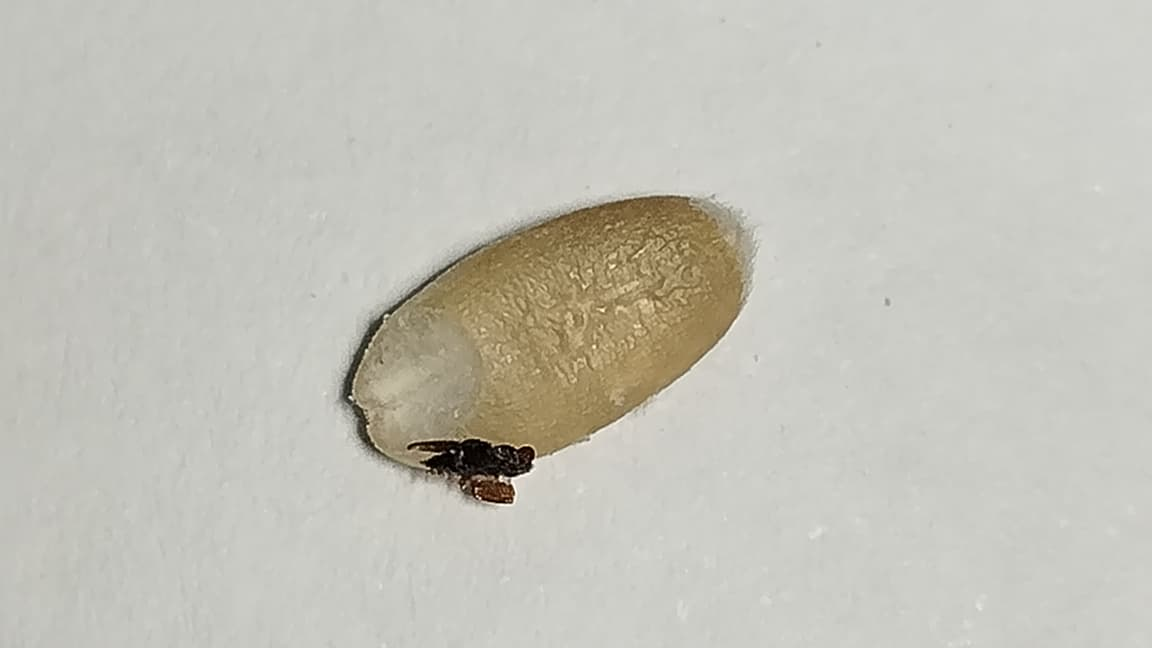damage: (348, 194, 756, 502)
insectdamage: (369, 298, 498, 449), (408, 417, 546, 518)
